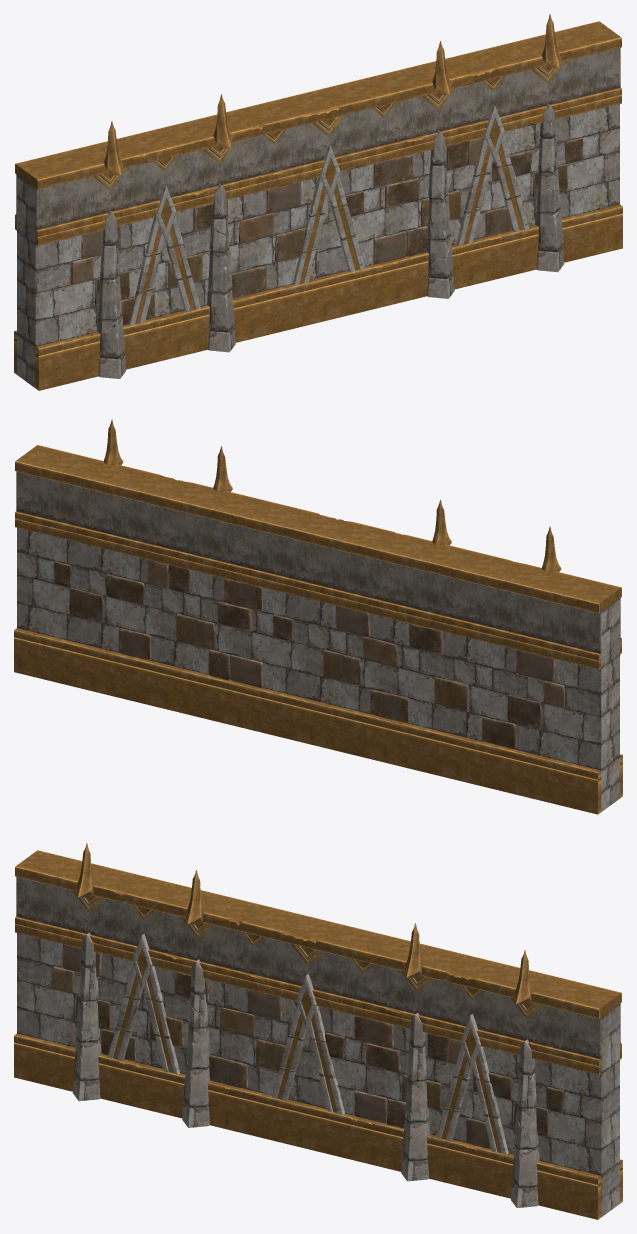
3 views of the same model, one above another, from view 1: azimuth 30°, elevation 25°; view 2: azimuth 150°, elevation 25°; view 3: azimuth 330°, elevation 25° (orthographic).
Visible parts, largest first — view 1: SM_Fuzan_Arena_Wall_01_LOD0; view 2: SM_Fuzan_Arena_Wall_01_LOD0; view 3: SM_Fuzan_Arena_Wall_01_LOD0.
Part boxes in pixels (x1,y1,x2,y2): SM_Fuzan_Arena_Wall_01_LOD0: (14,14,622,390); SM_Fuzan_Arena_Wall_01_LOD0: (14,419,622,814); SM_Fuzan_Arena_Wall_01_LOD0: (14,843,622,1219).
Bounding box in the file's own units: 32 × 13.21 × 3.21.
5 materials, 5 textured.
